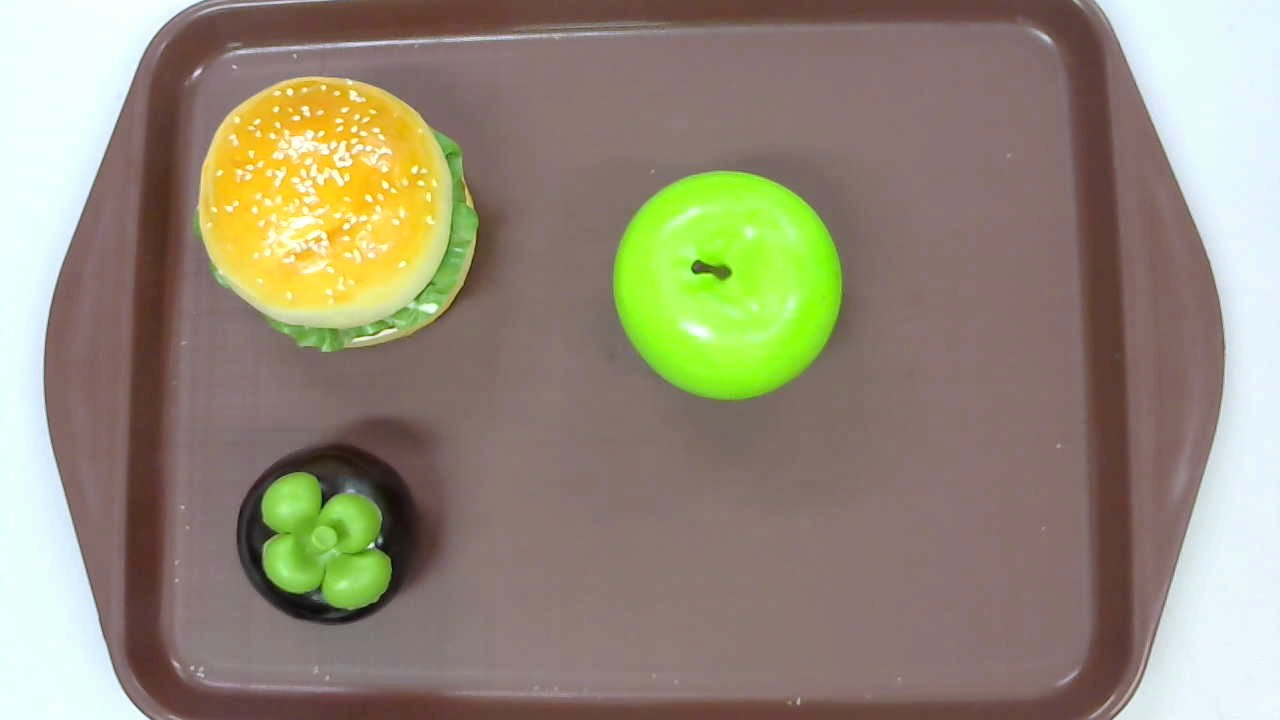green apple: (611, 170, 844, 403)
hamburger: (193, 76, 479, 352)
mangosteen: (235, 444, 419, 628)
